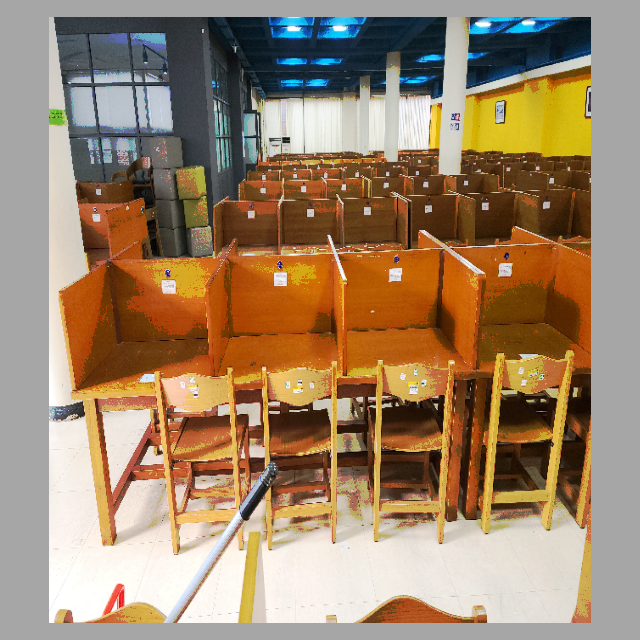empty: (63, 242, 209, 468), (348, 240, 478, 440), (215, 242, 342, 439)
